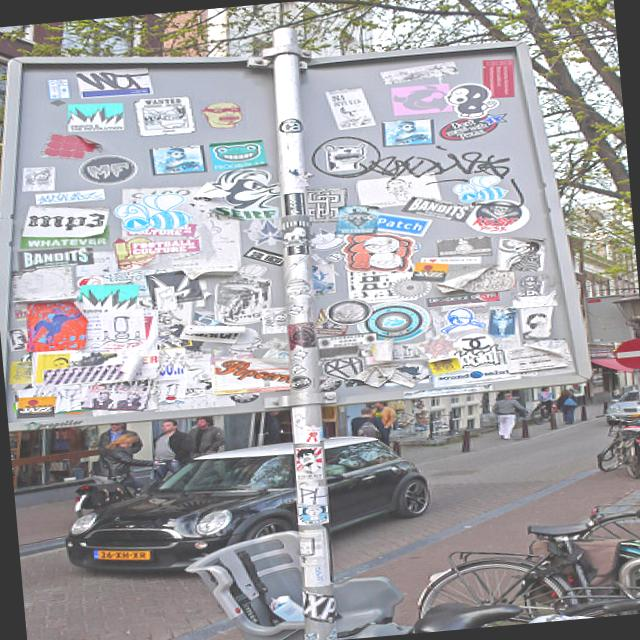Vehicle: (71, 422, 442, 578), (602, 386, 640, 426), (530, 403, 559, 425)
